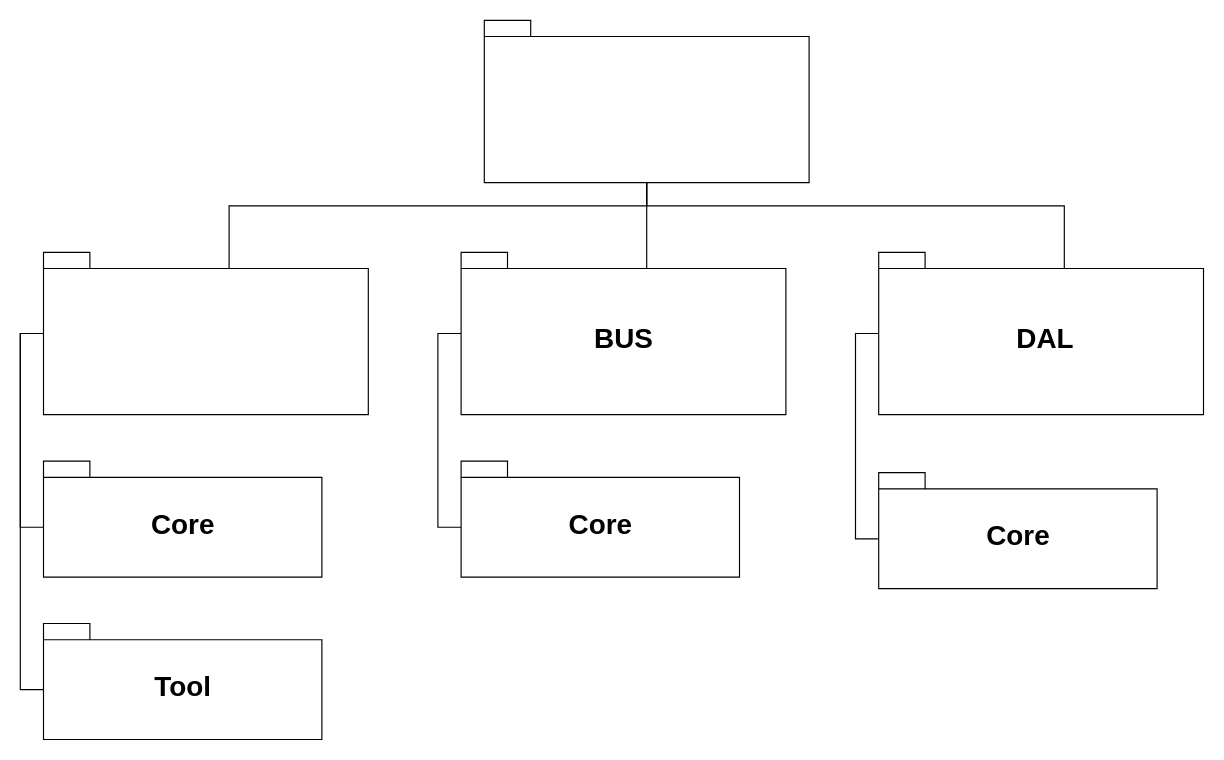
Some shapes in this 1224 by 760 pixel diagram are drawn without their labels. Here are the shapes that lost their labels. From the top down, the centre of each, then its label:
At point 646,101: "WhatIRemember".
At point 205,333: "UI".
